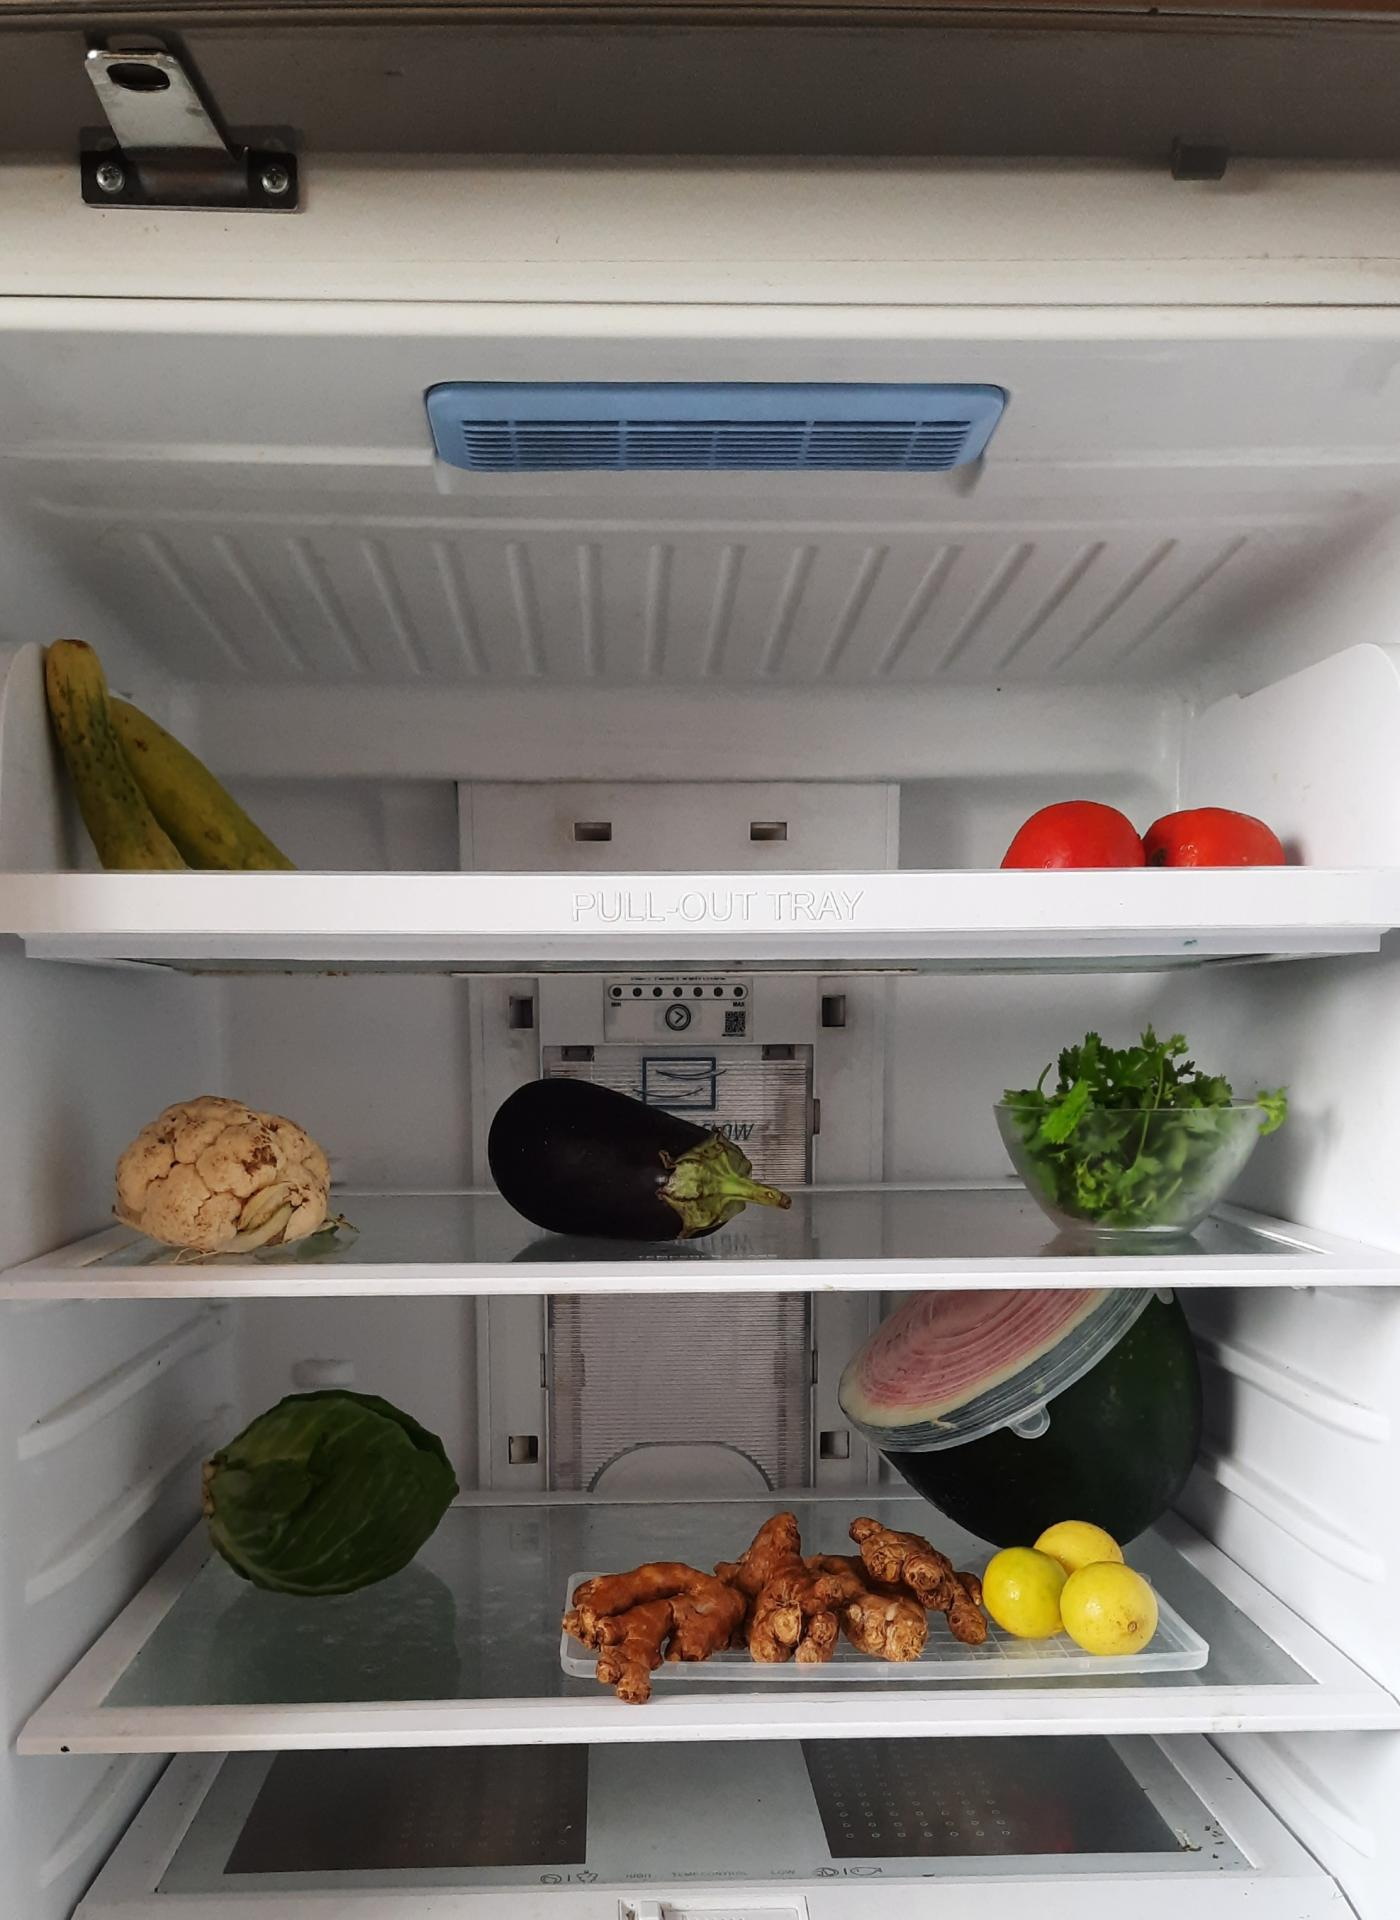brinjal: (483, 1070, 795, 1243)
cabbage: (197, 1388, 461, 1597)
cauliflower: (112, 1093, 340, 1251)
coriander: (1012, 1012, 1270, 1216)
cucumber: (33, 631, 297, 878)
ginger: (556, 1518, 988, 1684)
lemon: (987, 1515, 1161, 1647)
tomato: (1006, 789, 1288, 874)
watermelon: (850, 1280, 1209, 1553)
